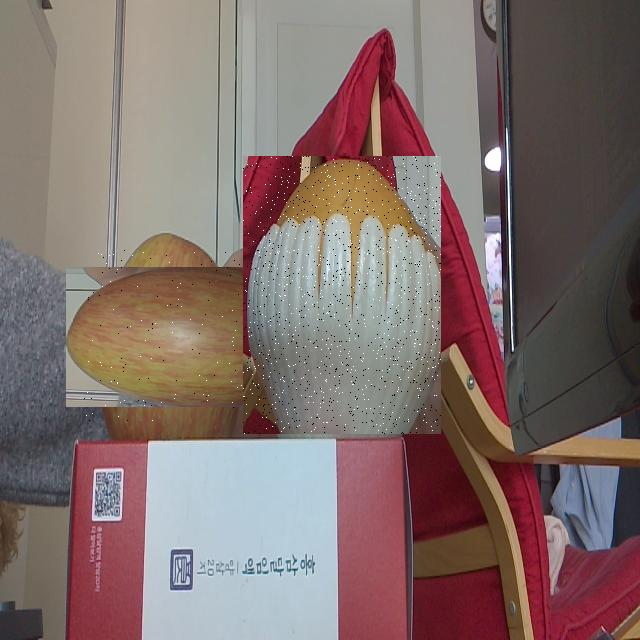apple: (83, 249, 256, 424)
pear: (243, 156, 441, 434)
